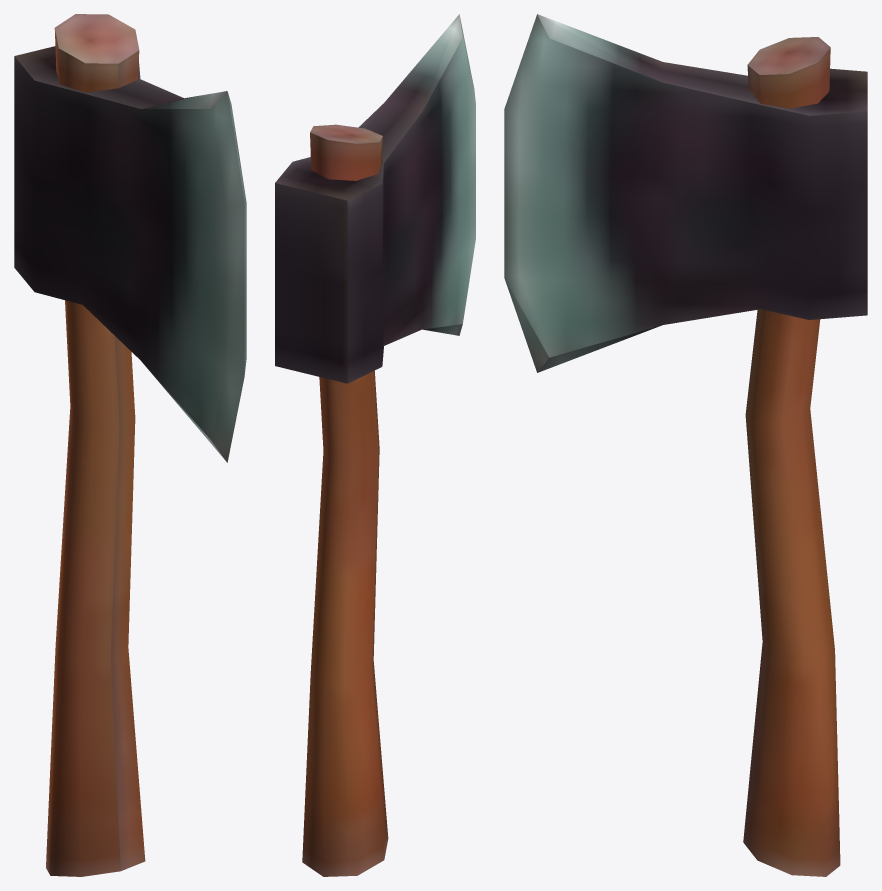
The picture shows the model from 3 angles, left to right: view 1: azimuth 30°, elevation 25°; view 2: azimuth 150°, elevation 25°; view 3: azimuth 270°, elevation 25°; orthographic projection. The views are drawn at different scales.
Parts seen in each view (by area): view 1: Stylized_Survival_Asset_Kit_Survival_kit_Axe_A_Altas01_0; view 2: Stylized_Survival_Asset_Kit_Survival_kit_Axe_A_Altas01_0; view 3: Stylized_Survival_Asset_Kit_Survival_kit_Axe_A_Altas01_0.
Part boxes in pixels (box(x1,y1,x2,y2)): Stylized_Survival_Asset_Kit_Survival_kit_Axe_A_Altas01_0: box(14, 14, 246, 876); Stylized_Survival_Asset_Kit_Survival_kit_Axe_A_Altas01_0: box(275, 14, 475, 876); Stylized_Survival_Asset_Kit_Survival_kit_Axe_A_Altas01_0: box(504, 14, 867, 876).
Size of the model in its own units: 0.2284 by 1.85 by 0.7168.
Materials: 1 (1 with a texture image).
